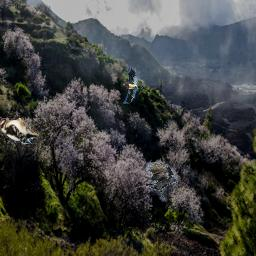Crow: (146, 162, 178, 202)
Woodpecker: (0, 116, 40, 144), (123, 67, 143, 104)
